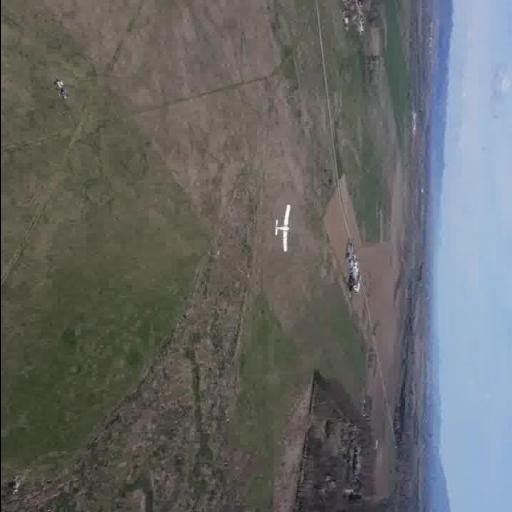uav: (265, 196, 302, 256)
